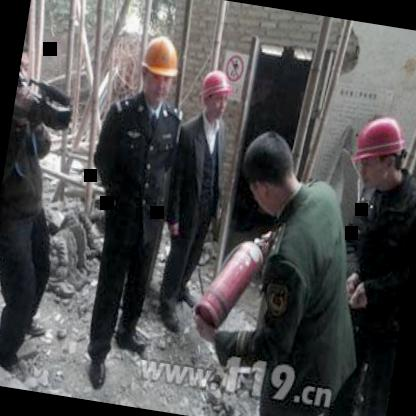helmet: (336, 101, 416, 202), (129, 27, 186, 113), (192, 62, 236, 122)
